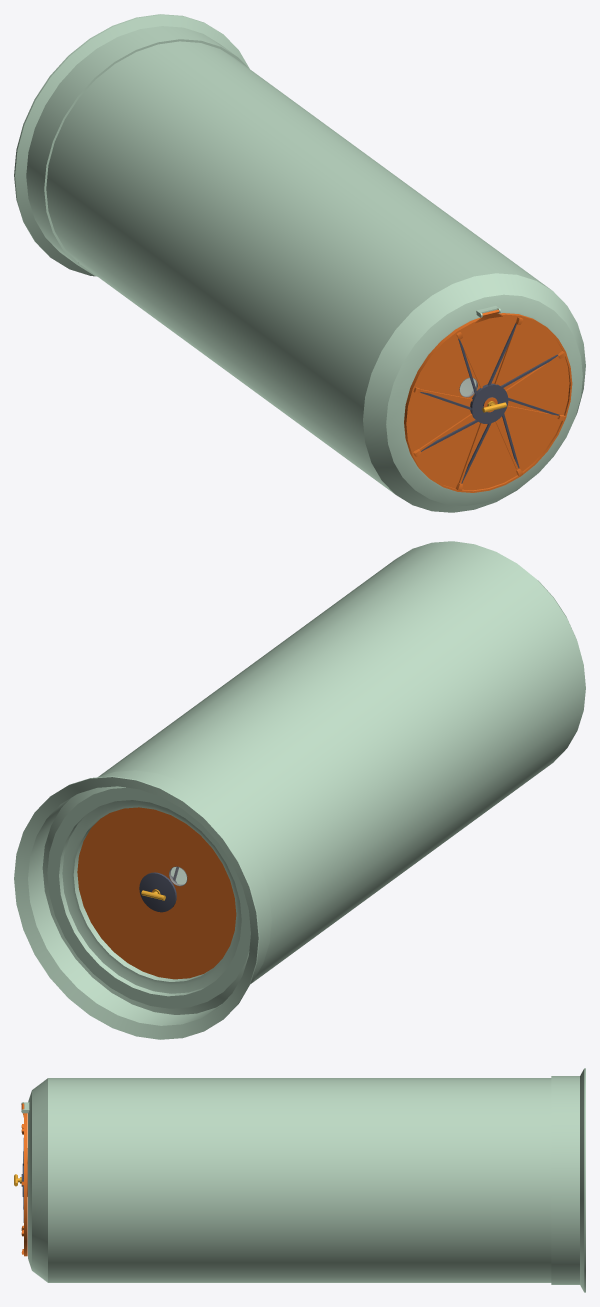
The model's file is Airlock.glb.
3 views of the same model, one above another, from view 1: azimuth 30°, elevation 25°; view 2: azimuth 150°, elevation 25°; view 3: azimuth 270°, elevation 25° (orthographic). The views are drawn at different scales.
Parts seen in each view (by area): view 1: AirlockStructure_LOD0, AirlockDoor_Interior_LOD0; view 2: AirlockStructure_LOD0, AirlockDoor_Exterior_LOD0; view 3: AirlockStructure_LOD0, AirlockDoor_Interior_LOD0.
Part boxes in pixels (x1,y1,x2,y2): AirlockStructure_LOD0: (14,14,585,512); AirlockDoor_Interior_LOD0: (404,309,572,492); AirlockStructure_LOD0: (14,541,585,1039); AirlockDoor_Exterior_LOD0: (77,807,236,979); AirlockStructure_LOD0: (21,1068,585,1292); AirlockDoor_Interior_LOD0: (14,1103,27,1256).
Size of what is drawn, in the model's own units: 4.44 by 4.44 by 11.31.
